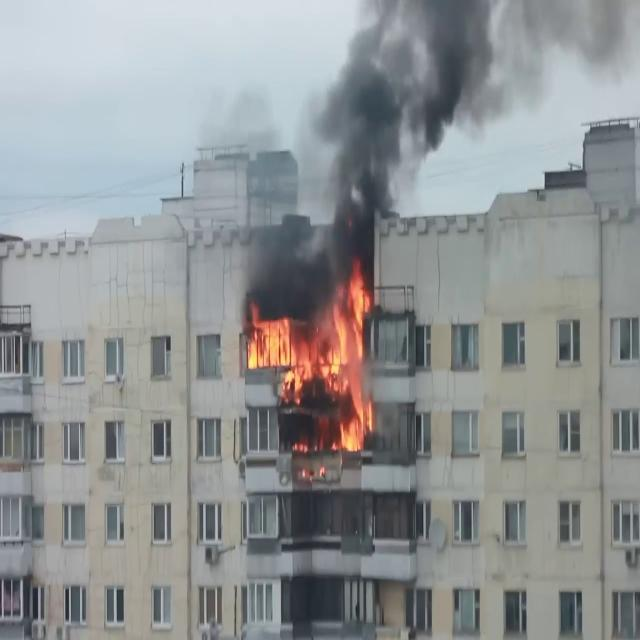Fire: (242, 267, 378, 450)
Smoke: (298, 1, 507, 267)
